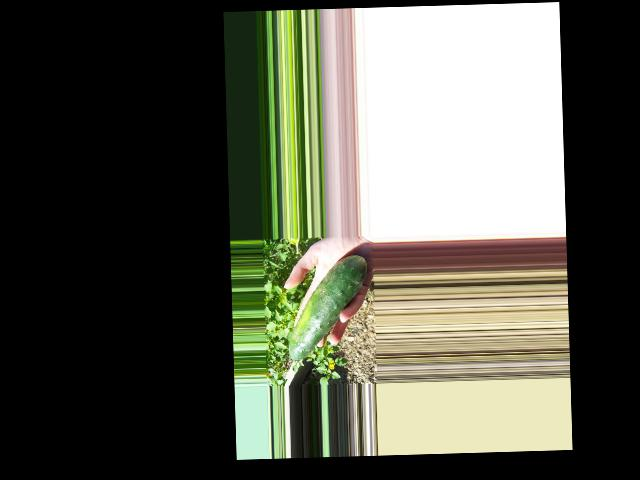cucumber: (286, 255, 369, 361)
